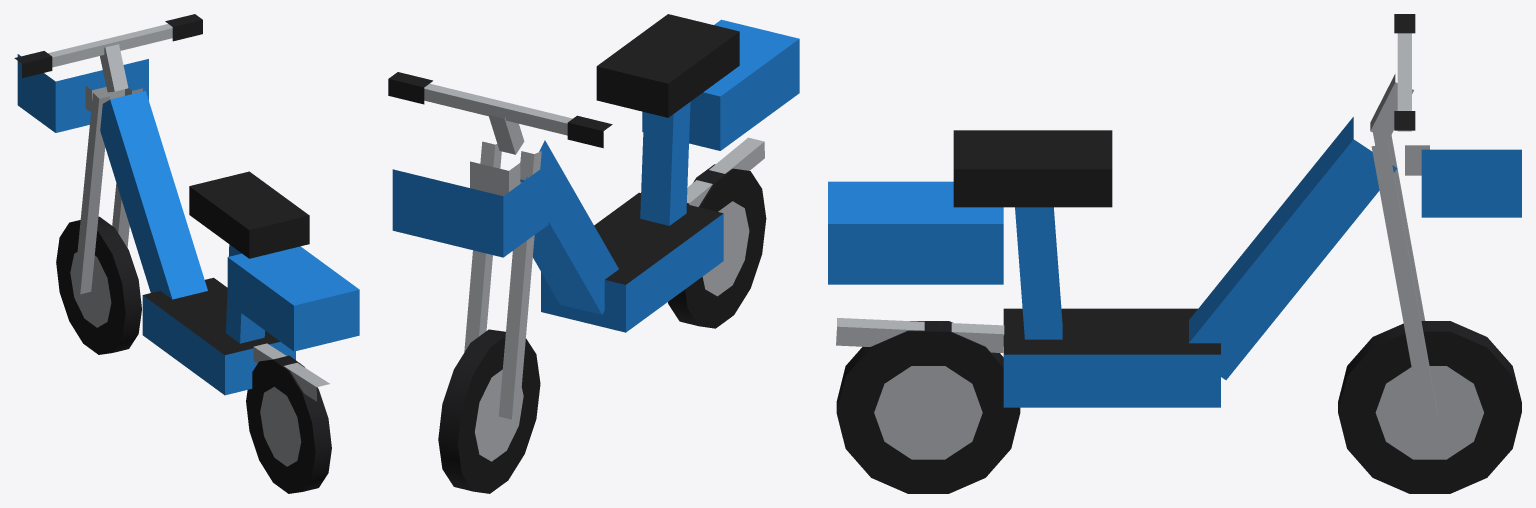
Rendered from ebike_7ma.glb.
3 renders of one model, left to right at view 1: azimuth 30°, elevation 25°; view 2: azimuth 150°, elevation 25°; view 3: azimuth 270°, elevation 25°, orthographic. The views are drawn at different scales.
Parts seen in each view (by area): view 1: 7ma电动车; view 2: 7ma电动车; view 3: 7ma电动车.
Boxes of the visible parts, x1,y1,x2,y2 form: 7ma电动车: (14, 14, 359, 493); 7ma电动车: (388, 14, 799, 493); 7ma电动车: (828, 14, 1521, 493).
Size of the model in its own units: 0.66 by 1.1 by 1.66.
